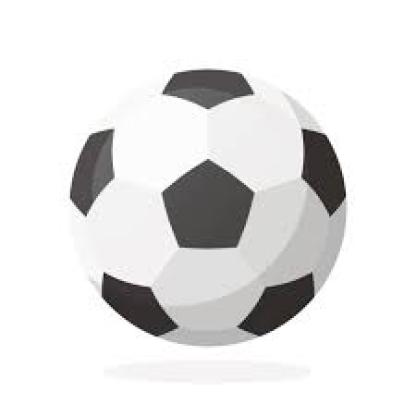ball: (70, 68, 347, 346)
